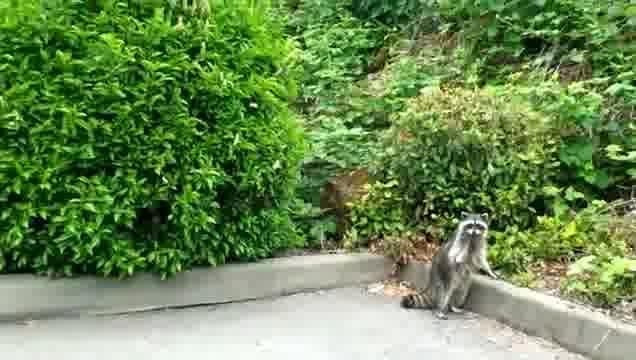raccoon: (402, 211, 501, 322)
